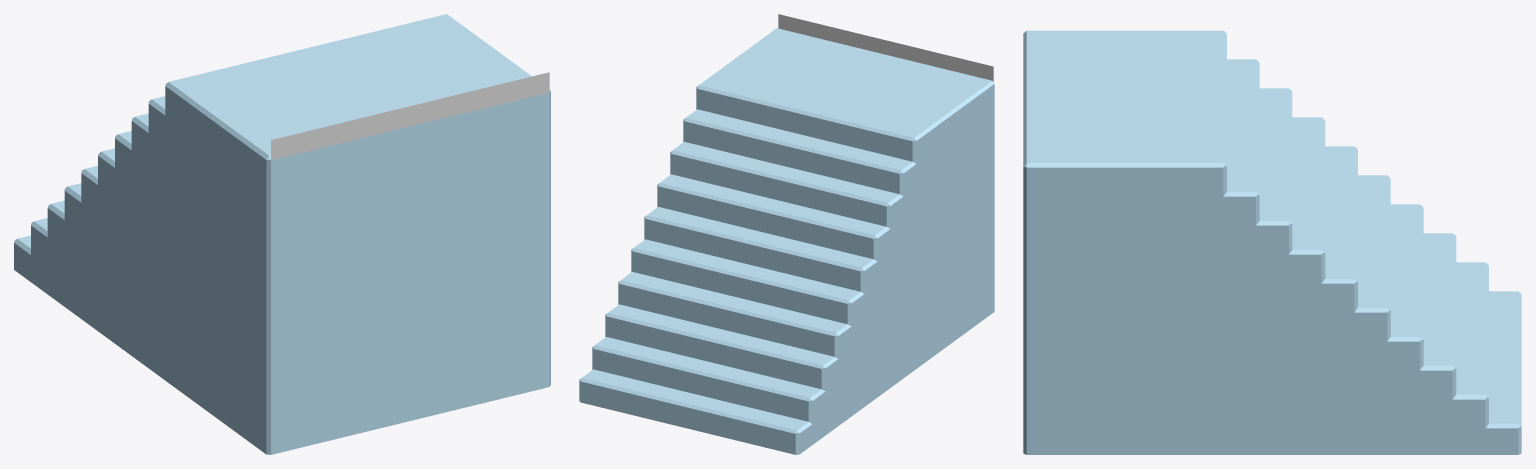
File: Stair_Stone.fbx
The picture shows the model from 3 angles, left to right: view 1: azimuth 30°, elevation 25°; view 2: azimuth 150°, elevation 25°; view 3: azimuth 270°, elevation 25°; orthographic projection. The views are drawn at different scales.
Parts seen in each view (by area): view 1: Stair_Stone, PassTrigger; view 2: Stair_Stone, PassTrigger; view 3: Stair_Stone.
Boxes of the visible parts, x1,y1,x2,y2 form: Stair_Stone: (14,14,550,454); PassTrigger: (271,72,549,160); Stair_Stone: (579,28,994,454); PassTrigger: (778,14,993,81); Stair_Stone: (1023,30,1521,454).
Size of the model in its own units: 1800 by 1902 by 2800.
